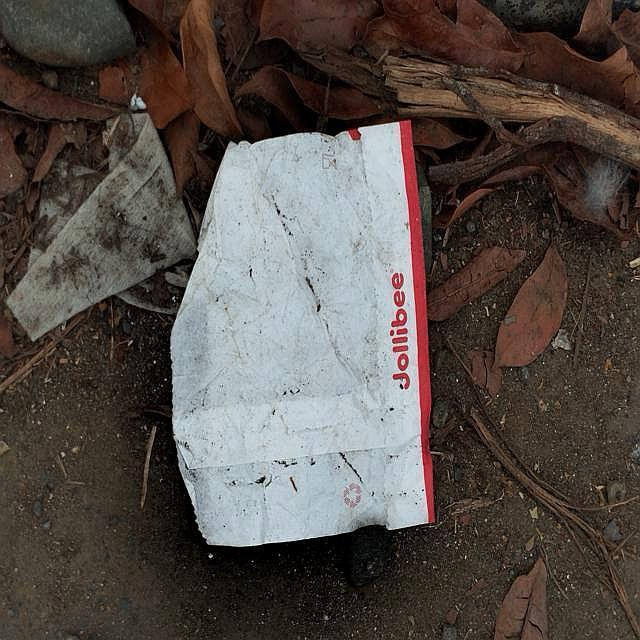Biodegradable: (169, 119, 445, 551), (17, 107, 188, 336)
